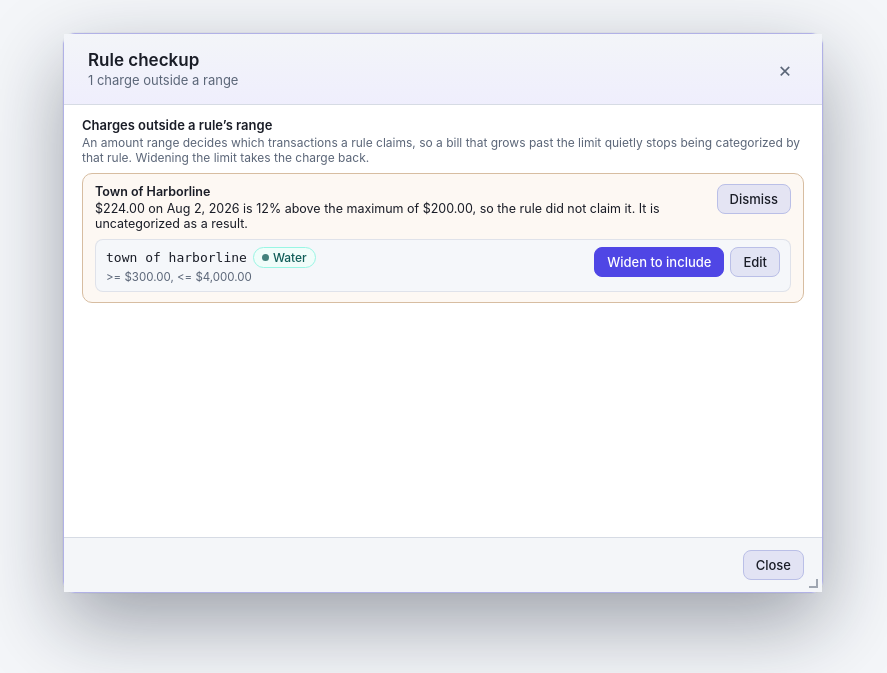
RuleFindingsDialog › says so when an action fails, and still re-runs the check
The width and height of the screenshot is (887, 673).
Click the button "Widen to include" at {"x": 659, "y": 262}, box [594,247,724,277]
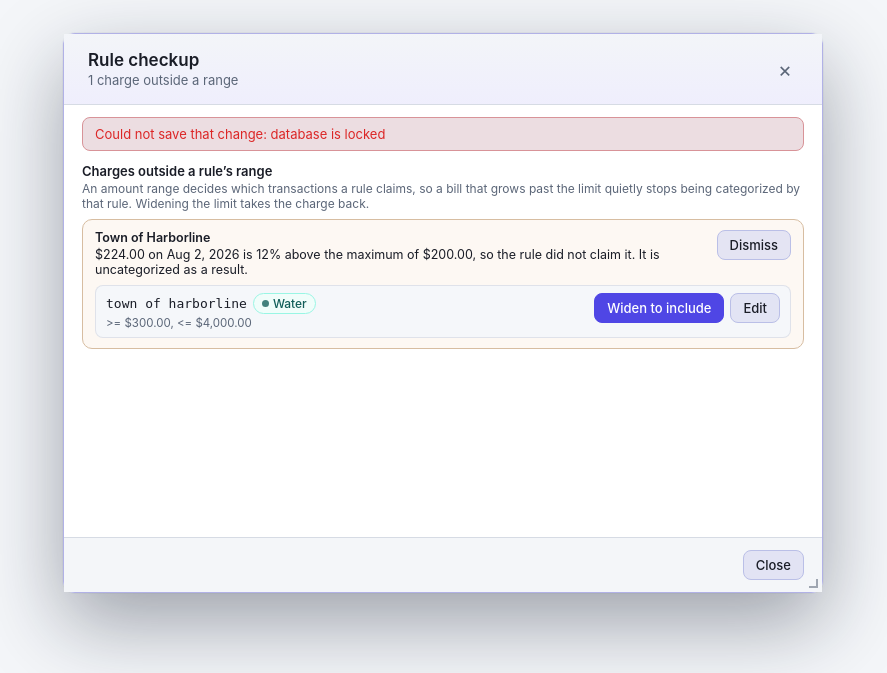
Result: the message reads "Could not save that change: database is locked" at [95,126,385,142]
